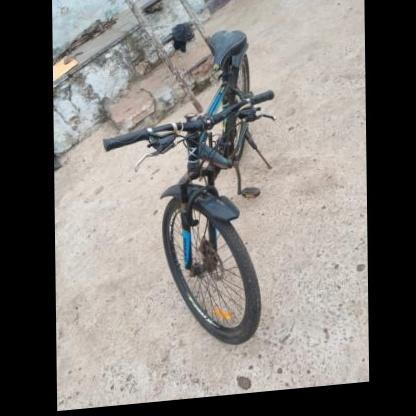Bicycle: (86, 2, 294, 350)
